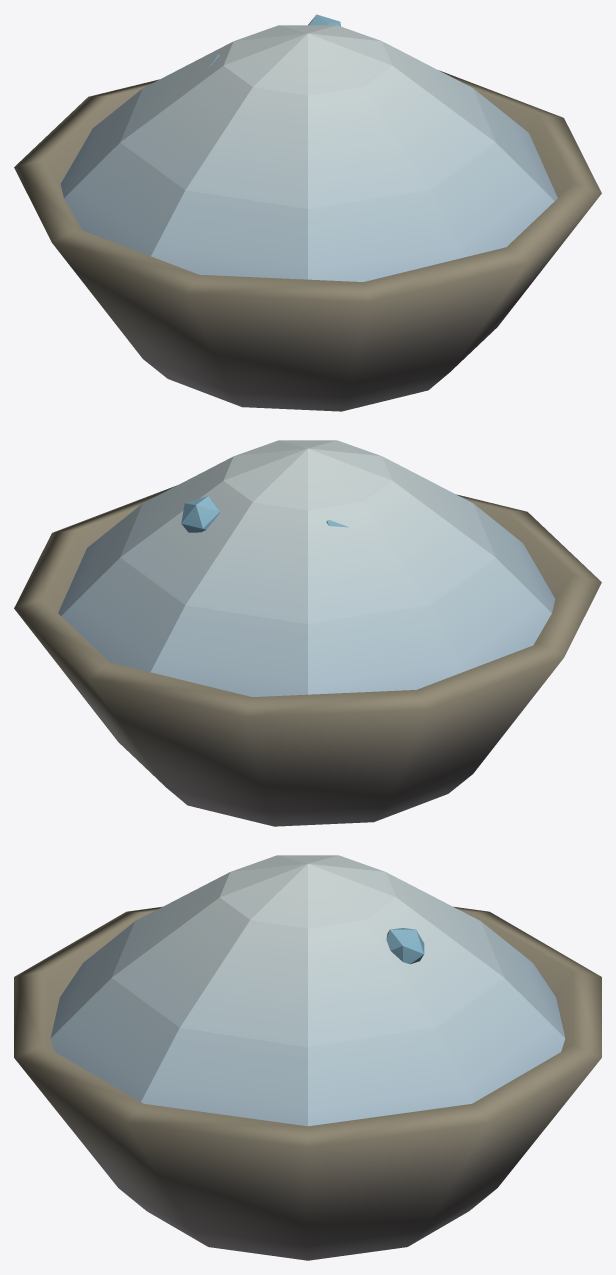
File: item_moon_powder.glb
3 views of the same model, one above another, from view 1: azimuth 30°, elevation 25°; view 2: azimuth 150°, elevation 25°; view 3: azimuth 270°, elevation 25° (orthographic). The views are drawn at different scales.
Parts seen in each view (by area): view 1: item_moon_powder; view 2: item_moon_powder; view 3: item_moon_powder.
Part boxes in pixels (x1,y1,x2,y2): item_moon_powder: (14,14,601,411); item_moon_powder: (14,440,601,826); item_moon_powder: (14,855,601,1260).
Size of the model in its own units: 1.24 by 0.72 by 1.18.
1 material, 1 textured.
